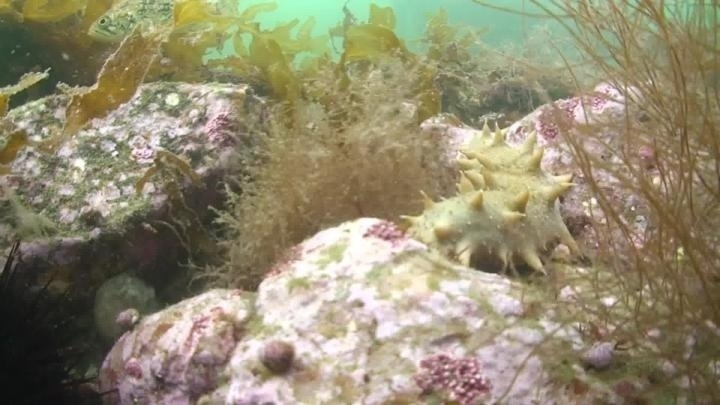echinus: (0, 258, 110, 405)
holothurian: (404, 124, 581, 280), (0, 179, 62, 244)
